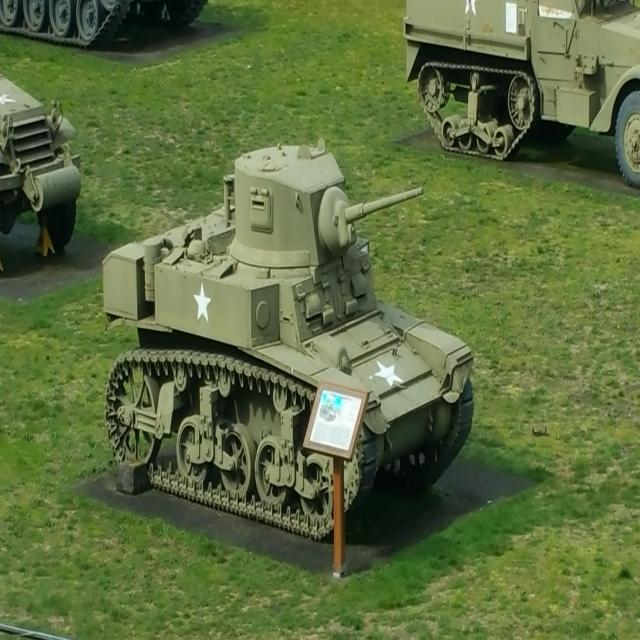Tanks: (95, 135, 478, 578)
